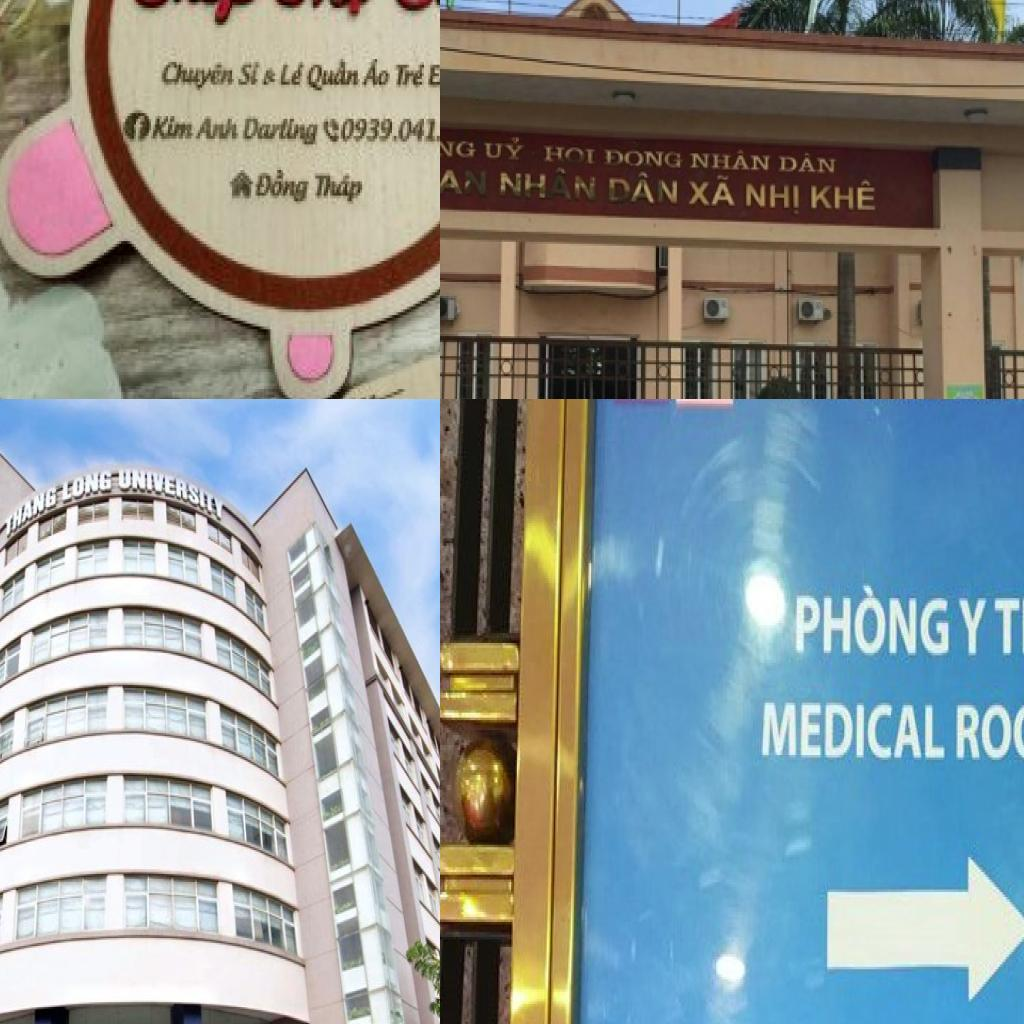text: (796, 578, 949, 668), (760, 698, 948, 765), (108, 0, 268, 30), (496, 166, 599, 206), (5, 483, 58, 542), (606, 170, 680, 210), (338, 115, 440, 144), (266, 0, 381, 25), (240, 116, 322, 150), (158, 59, 238, 93), (993, 573, 1024, 660), (302, 56, 364, 99), (251, 167, 315, 207), (810, 180, 878, 216), (955, 590, 986, 663), (744, 180, 804, 216), (61, 467, 114, 507), (440, 161, 490, 201), (691, 150, 772, 174), (309, 173, 366, 207), (604, 148, 684, 172), (688, 174, 738, 212), (542, 140, 596, 170), (780, 150, 838, 176), (440, 127, 478, 163), (151, 113, 198, 142), (194, 116, 242, 144), (484, 134, 525, 166), (360, 56, 392, 90), (392, 62, 428, 90), (277, 62, 309, 90), (236, 59, 264, 90), (260, 65, 281, 90), (132, 116, 149, 144), (426, 61, 440, 90)
